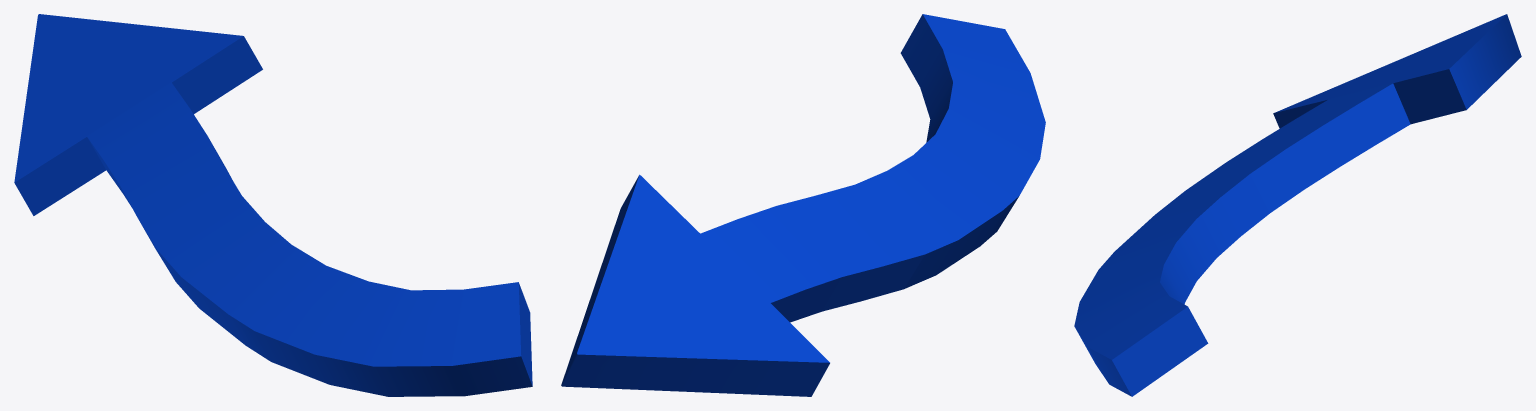
The model's file is Arrow03.fbx.
3 renders of one model, left to right at view 1: azimuth 30°, elevation 25°; view 2: azimuth 150°, elevation 25°; view 3: azimuth 330°, elevation 25°, orthographic. The views are drawn at different scales.
Parts seen in each view (by area): view 1: Cube.102; view 2: Cube.102; view 3: Cube.102.
Part boxes in pixels (left/top/right/bottom): Cube.102: left=14, top=14, right=532, bottom=396; Cube.102: left=561, top=14, right=1045, bottom=396; Cube.102: left=1074, top=14, right=1521, bottom=396.
Size of the model in its own units: 0.6732 by 0.4342 by 2.31.
